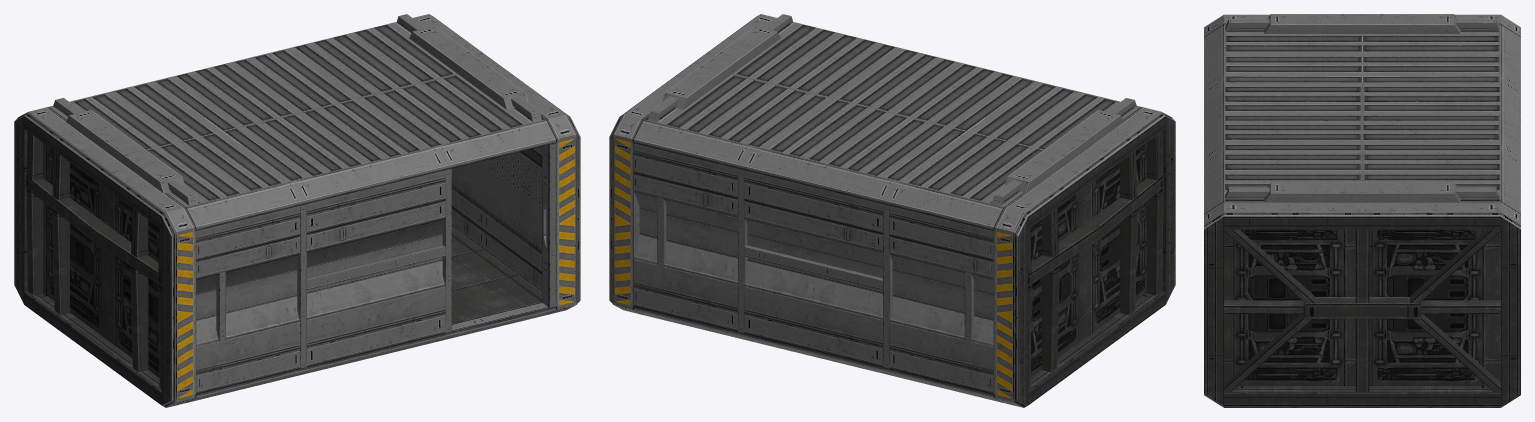
File: Neon_CrateOpenC2.FBX
3 renders of one model, left to right at view 1: azimuth 30°, elevation 25°; view 2: azimuth 150°, elevation 25°; view 3: azimuth 270°, elevation 25°, orthographic.
Visible parts, largest first — view 1: Neon_CrateOpenC2; view 2: Neon_CrateOpenC2; view 3: Neon_CrateOpenC2.
Part boxes in pixels (x1,y1,x2,y2): Neon_CrateOpenC2: [14, 14, 580, 407]; Neon_CrateOpenC2: [609, 14, 1175, 407]; Neon_CrateOpenC2: [1204, 14, 1520, 407].
Bounding box in the file's own units: 5.99 × 2.9 × 3.96.
